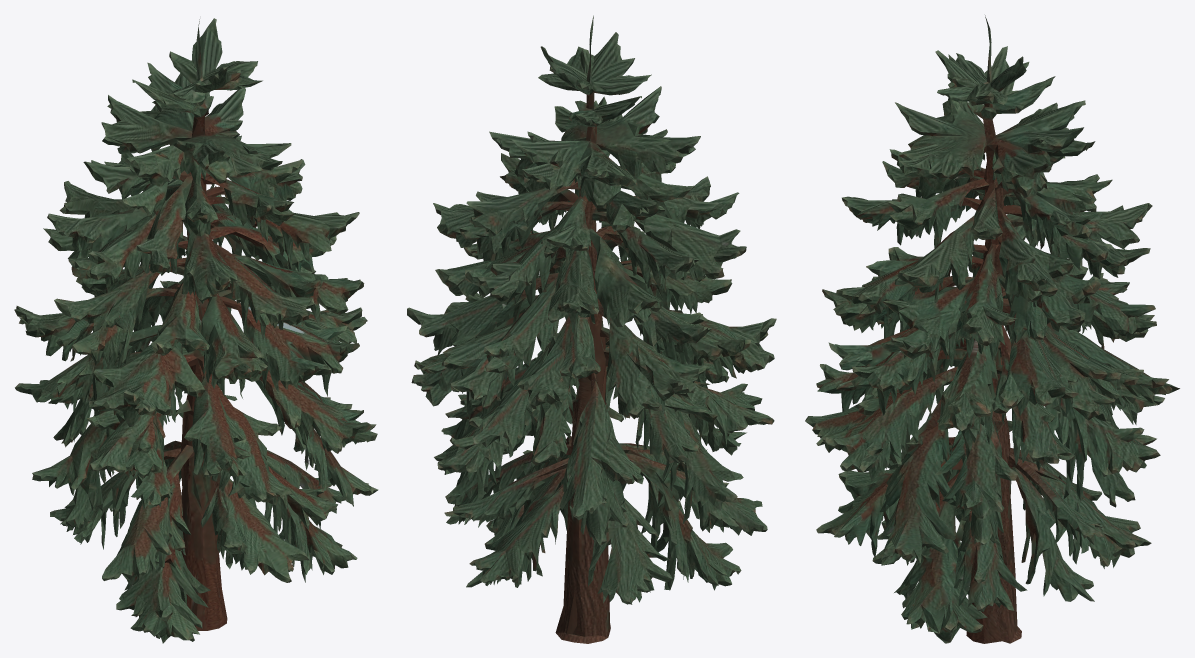
3 renders of one model, left to right at view 1: azimuth 30°, elevation 25°; view 2: azimuth 150°, elevation 25°; view 3: azimuth 270°, elevation 25°, orthographic.
Size of the model in its own units: 0.9426 by 1.76 by 0.9723.
Materials: 1 (1 with a texture image).
